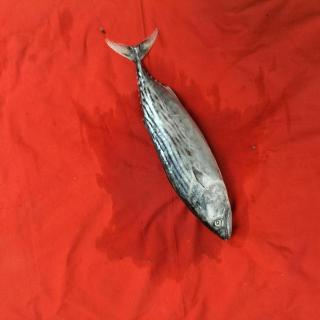Ikan: (103, 28, 247, 250)
